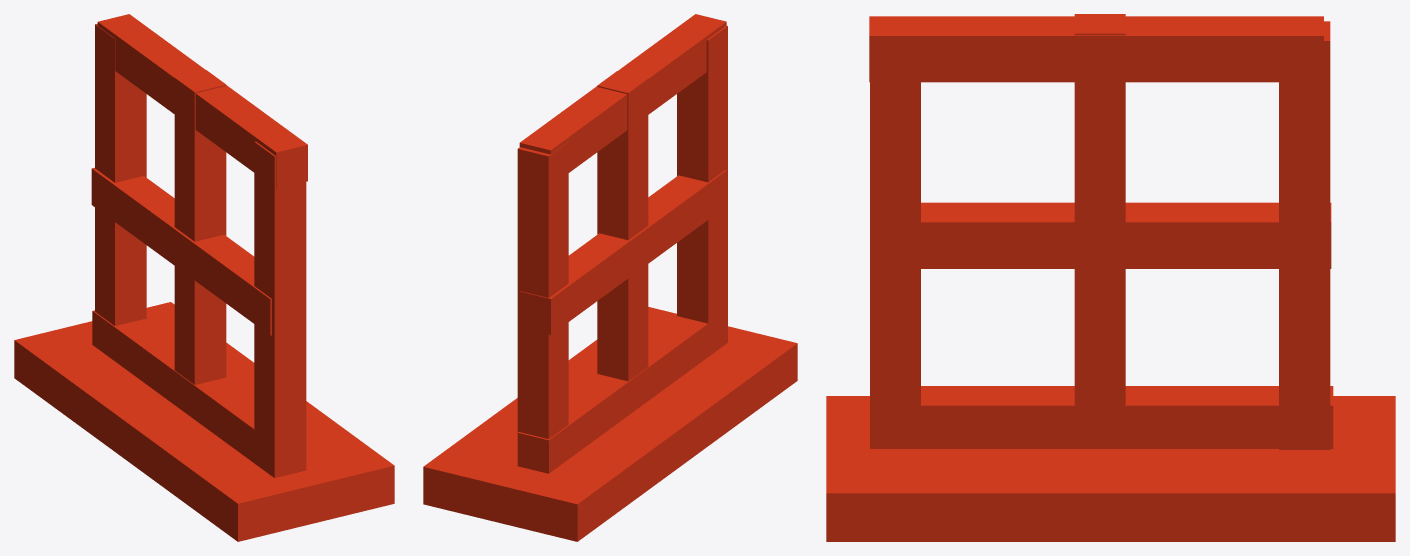
The model's file is window.gltf.
3 views of the same model, side by side, from view 1: azimuth 30°, elevation 25°; view 2: azimuth 150°, elevation 25°; view 3: azimuth 270°, elevation 25° (orthographic). The views are drawn at different scales.
Parts seen in each view (by area): view 1: Cube.006; view 2: Cube.006; view 3: Cube.006.
Part boxes in pixels (left/top/right/bottom): Cube.006: left=14, top=14, right=394, bottom=541; Cube.006: left=423, top=14, right=797, bottom=541; Cube.006: left=826, top=14, right=1395, bottom=541.
Bounding box in the file's own units: 3.45 × 7.68 × 8.53.
